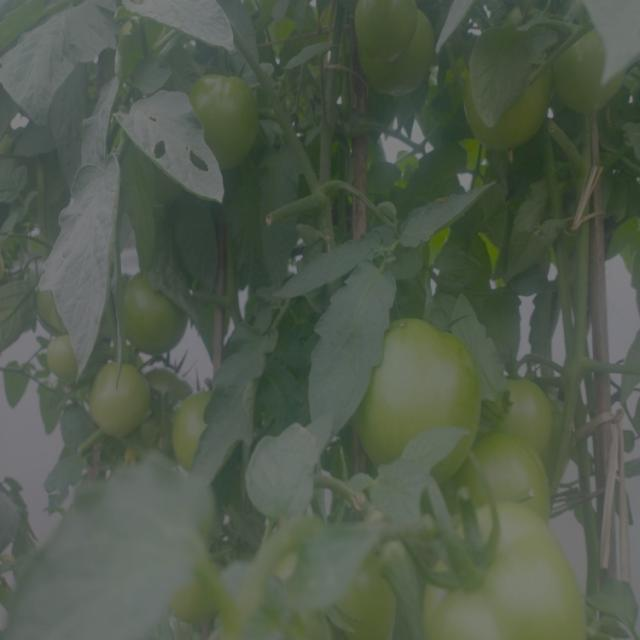tomato: (419, 511, 587, 640), (361, 314, 467, 476), (463, 40, 547, 149), (188, 62, 263, 170), (309, 561, 400, 640), (477, 436, 563, 515), (556, 15, 613, 118), (118, 272, 186, 355), (165, 379, 224, 464), (89, 359, 149, 438), (486, 373, 560, 435), (356, 1, 430, 61), (179, 542, 226, 624), (36, 331, 89, 384), (375, 58, 434, 93)
